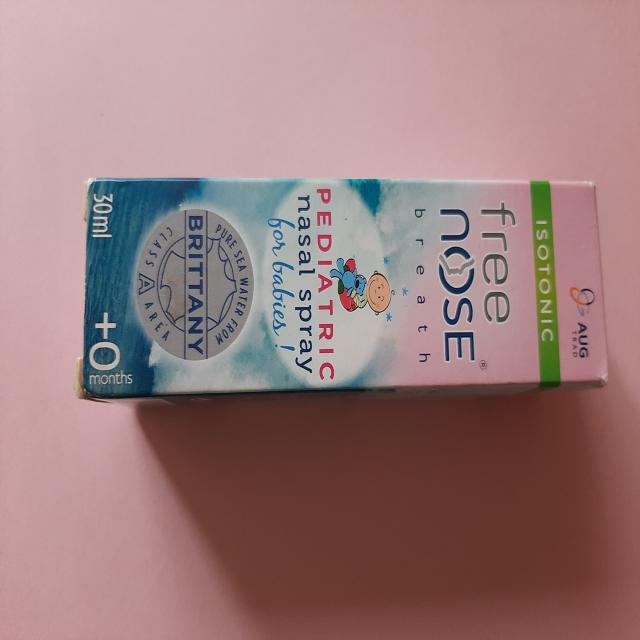Free Nose: (71, 172, 619, 419)
